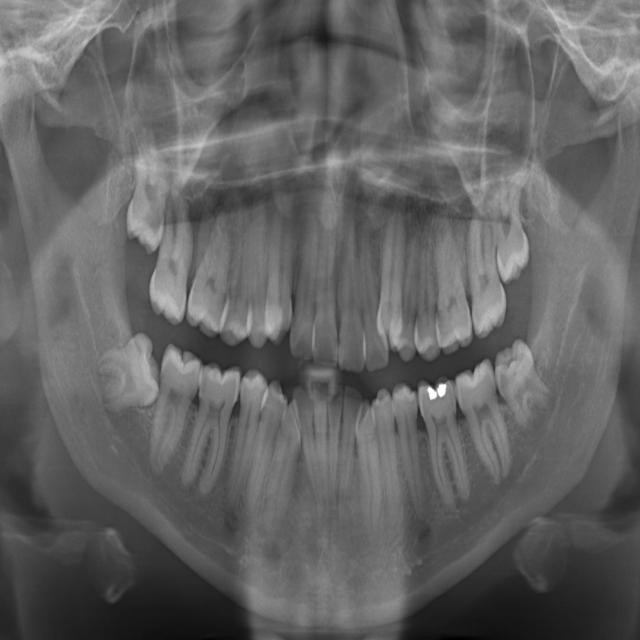AmalgamRestoration: (422, 379, 436, 405), (438, 376, 447, 401)
DentalCaries: (330, 328, 349, 355), (196, 376, 210, 402)
ImpactedTooth: (94, 332, 170, 412), (121, 156, 167, 251), (497, 192, 533, 288)
